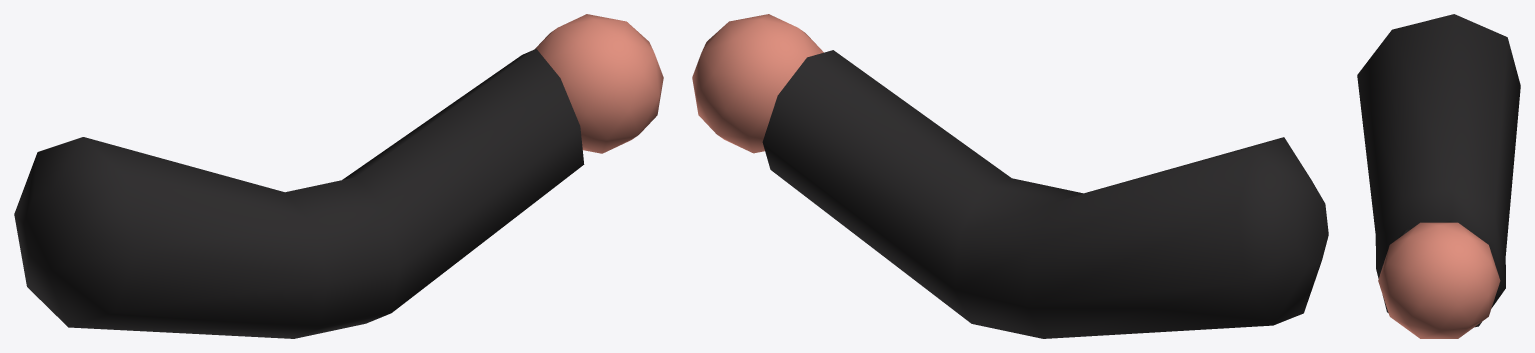
Rendered from business-arm.fbx.
3 renders of one model, left to right at view 1: azimuth 30°, elevation 25°; view 2: azimuth 150°, elevation 25°; view 3: azimuth 270°, elevation 25°, orthographic. The views are drawn at different scales.
Parts seen in each view (by area): view 1: business-arm; view 2: business-arm; view 3: business-arm.
Part boxes in pixels (x1=…): business-arm: x1=14, y1=14, x2=663, y2=338; business-arm: x1=692, y1=14, x2=1328, y2=338; business-arm: x1=1357, y1=14, x2=1520, y2=338.
Bounding box in the file's own units: 171 × 64.41 × 45.51.
